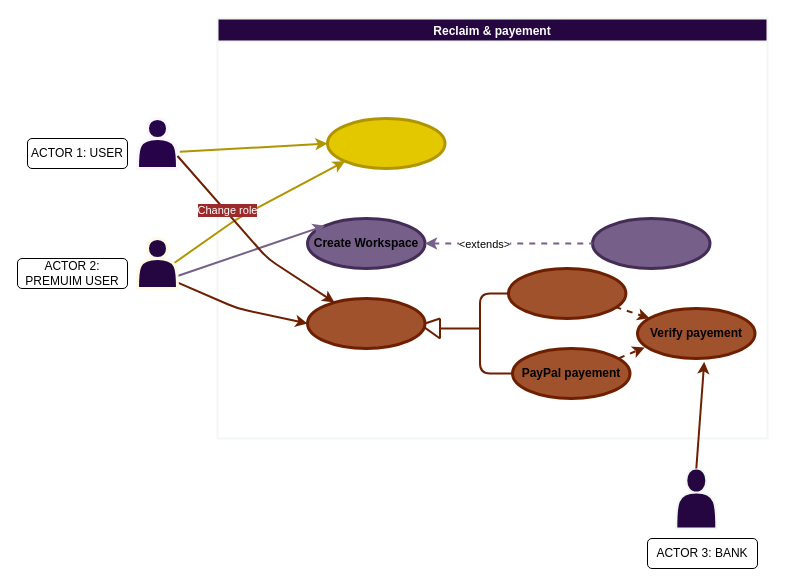
The diagram is 786 pixels wide and 586 high, and some of its shapes have lost their labels. The shapes that lost their labels are listed below. From the top down, each one's centre as x and y in pixels, then its label:
At point 386,143: "Reclaim a problem".
At point 650,243: "Manage Workspace".
At point 566,293: "Card payement".
At point 366,323: "Effect payement".
